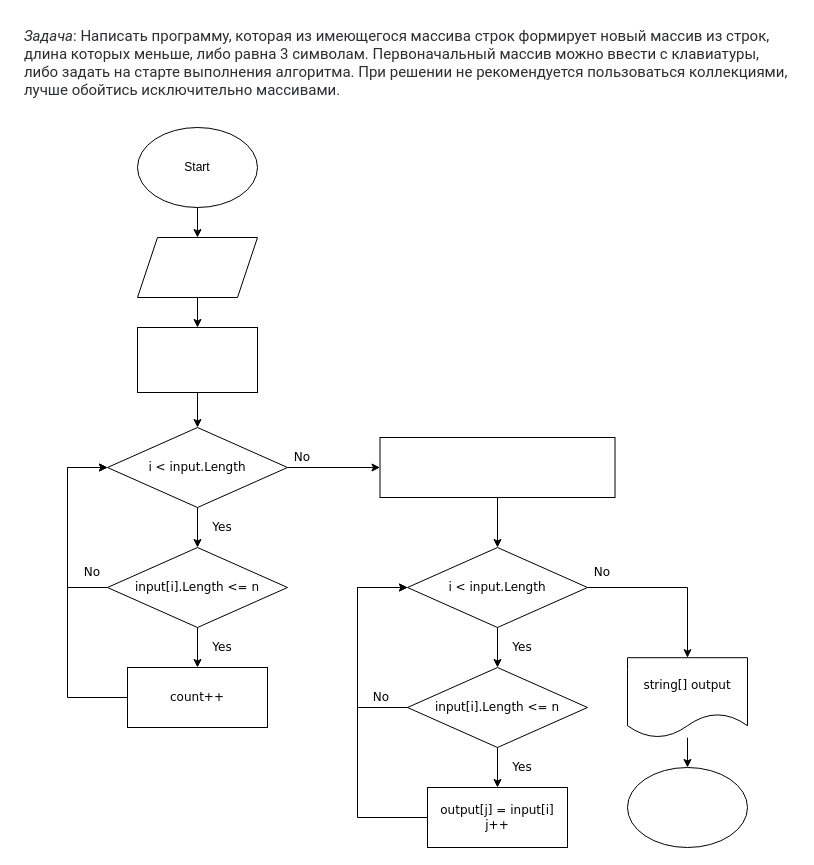
This 814x865 diagram has some shape labels left out. Each missing label, with the centre of its shape:
End: point 687,807
int i = 0 int j = 0 int n = 3 count = 0: point 197,359
string [] input: point 197,267
string[ ] output = new string[count]: point 497,467
